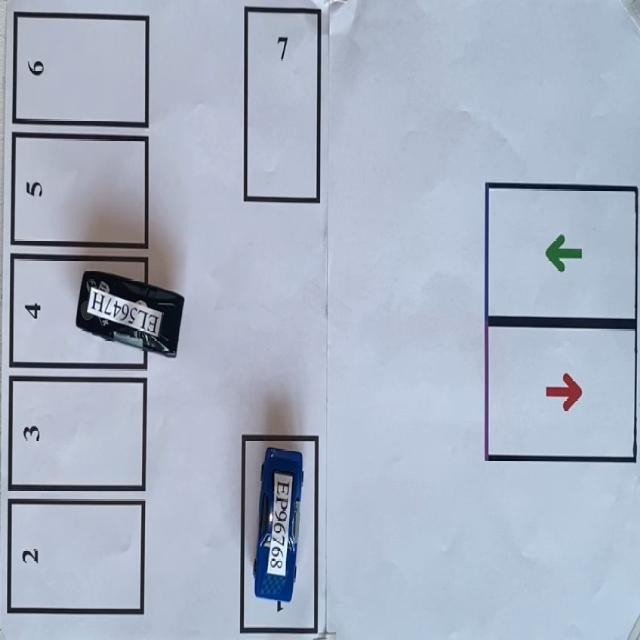car: (76, 271, 183, 356), (254, 448, 303, 610)
